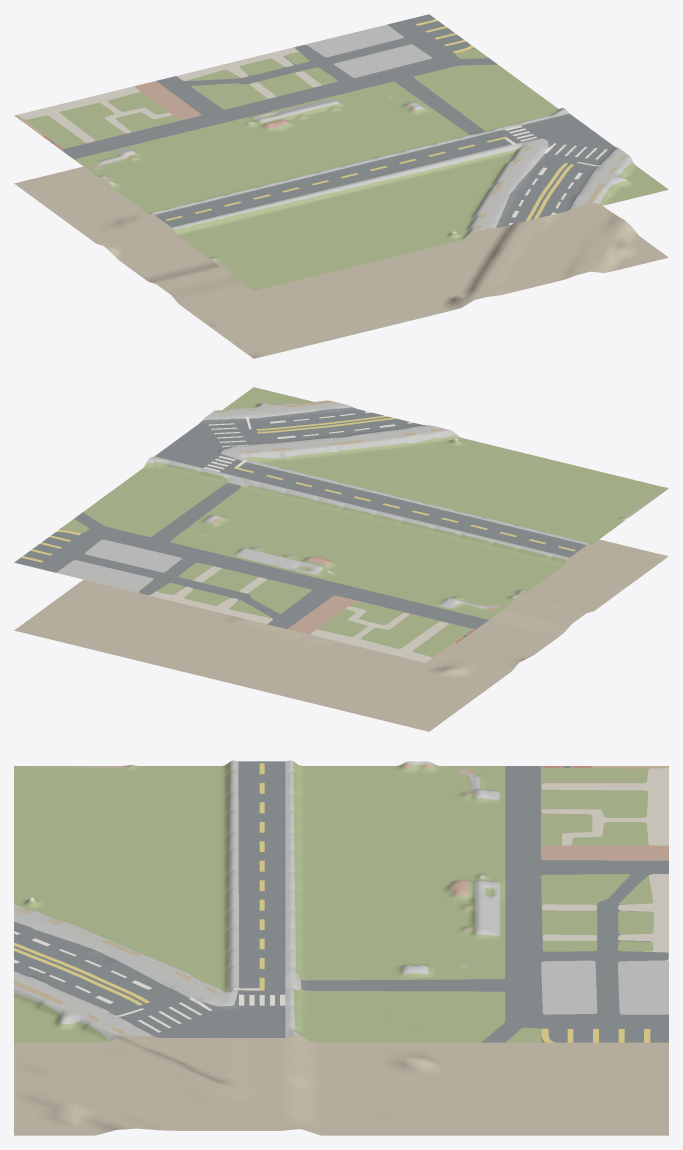
3 renders of one model, top to bottom at view 1: azimuth 30°, elevation 25°; view 2: azimuth 150°, elevation 25°; view 3: azimuth 270°, elevation 25°, orthographic. The views are drawn at different scales.
Visible parts, largest first — view 1: s_-9_-3__grass, s_-9_-3__soil, s_-9_-3__asphalt, s_-9_-3__stone_paving, s_-9_-3__paving, s_-9_-3__brick_paving, s_-9_-3__yellow_marking, s_-9_-3__white_marking, s_-9_-3__timber_deck; view 2: s_-9_-3__grass, s_-9_-3__soil, s_-9_-3__asphalt, s_-9_-3__stone_paving, s_-9_-3__paving, s_-9_-3__brick_paving, s_-9_-3__yellow_marking, s_-9_-3__white_marking, s_-9_-3__timber_deck; view 3: s_-9_-3__grass, s_-9_-3__soil, s_-9_-3__asphalt, s_-9_-3__stone_paving, s_-9_-3__paving, s_-9_-3__brick_paving, s_-9_-3__yellow_marking, s_-9_-3__white_marking, s_-9_-3__timber_deck.
Boxes of the visible parts, x1,y1,x2,y2 form: s_-9_-3__grass: (26, 48, 668, 290); s_-9_-3__soil: (14, 95, 668, 358); s_-9_-3__asphalt: (50, 14, 617, 227); s_-9_-3__stone_paving: (95, 24, 633, 236); s_-9_-3__paving: (18, 44, 456, 233); s_-9_-3__brick_paving: (24, 81, 415, 184); s_-9_-3__yellow_marking: (165, 19, 574, 220); s_-9_-3__white_marking: (505, 125, 607, 225); s_-9_-3__timber_deck: (14, 114, 627, 230); s_-9_-3__grass: (61, 387, 668, 656); s_-9_-3__soil: (14, 491, 668, 731); s_-9_-3__asphalt: (14, 407, 586, 637); s_-9_-3__stone_paving: (56, 400, 588, 609); s_-9_-3__paving: (135, 438, 457, 662); s_-9_-3__brick_paving: (213, 516, 521, 657); s_-9_-3__yellow_marking: (21, 415, 575, 562); s_-9_-3__white_marking: (203, 411, 413, 471); s_-9_-3__timber_deck: (215, 400, 456, 663); s_-9_-3__grass: (14, 761, 653, 1042); s_-9_-3__soil: (14, 765, 668, 1135); s_-9_-3__asphalt: (14, 761, 668, 1042); s_-9_-3__stone_paving: (14, 760, 668, 1040); s_-9_-3__paving: (29, 768, 668, 961); s_-9_-3__brick_paving: (403, 764, 668, 966); s_-9_-3__yellow_marking: (14, 763, 650, 1042); s_-9_-3__white_marking: (14, 931, 285, 1032); s_-9_-3__timber_deck: (14, 766, 668, 1034).
Size of the model in its own units: 128 by 21.51 by 128.
